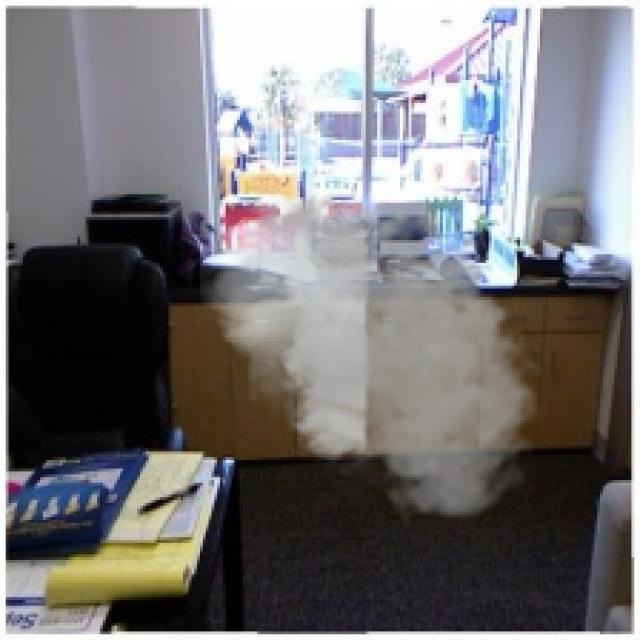smoke: (200, 183, 551, 526)
